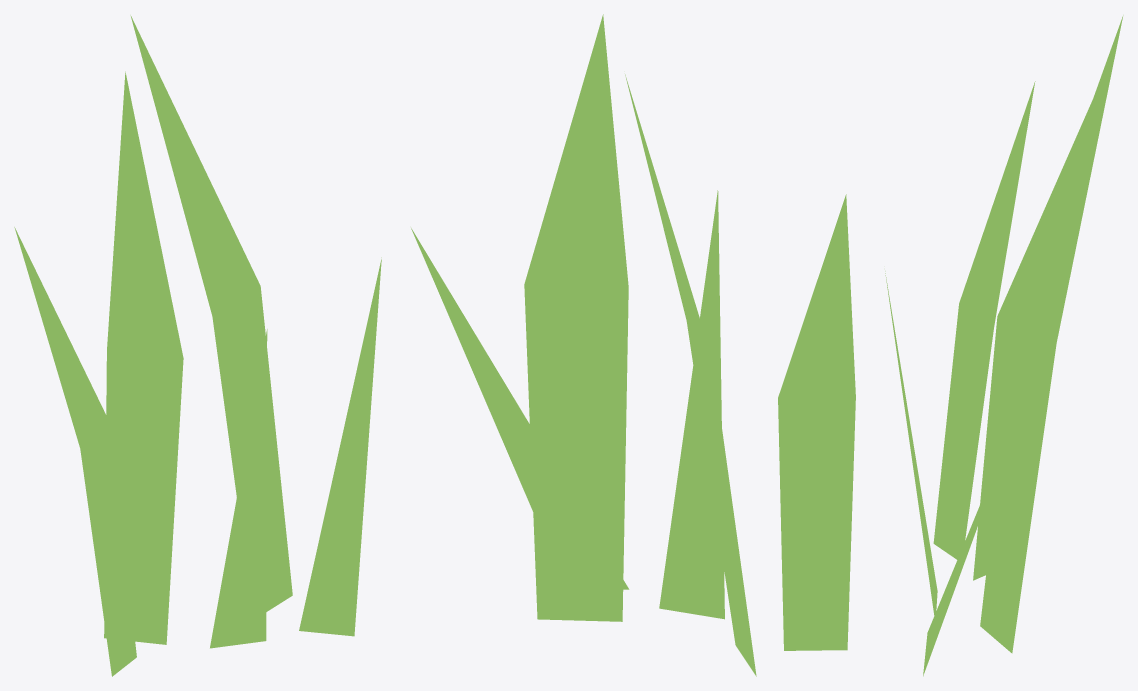
The model's file is Grass_a_OneS_03.fbx.
3 views of the same model, side by side, from view 1: azimuth 30°, elevation 25°; view 2: azimuth 150°, elevation 25°; view 3: azimuth 270°, elevation 25° (orthographic). The views are drawn at different scales.
Visible parts, largest first — view 1: Grass_a_OneS_03; view 2: Grass_a_OneS_03; view 3: Grass_a_OneS_03.
Part boxes in pixels (x1=…): Grass_a_OneS_03: x1=14, y1=15, x2=381, y2=676; Grass_a_OneS_03: x1=411, y1=14, x2=855, y2=676; Grass_a_OneS_03: x1=885, y1=15, x2=1123, y2=676.
Bounding box in the file's own units: 0.4207 × 0.6414 × 0.2321.
